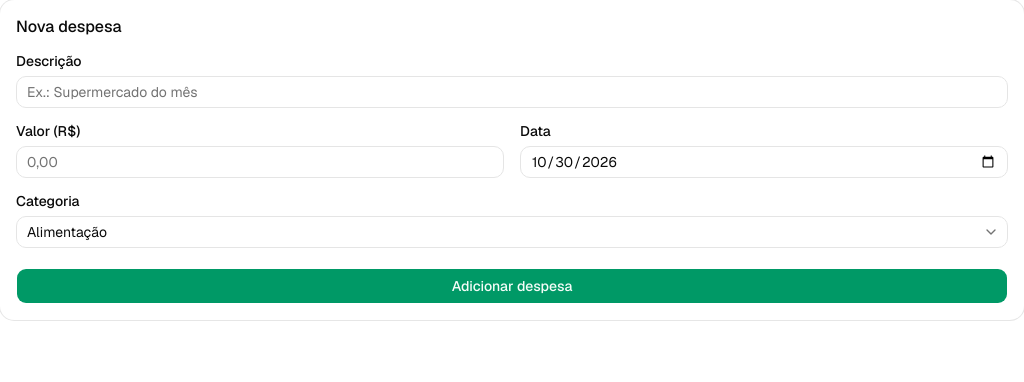
Test case: <ExpenseForm /> › não envia e mostra os erros quando o formulário está vazio
This screenshot has width=1024, height=382.
Click the button "Adicionar despesa": (512, 286) [16,268,1008,304]
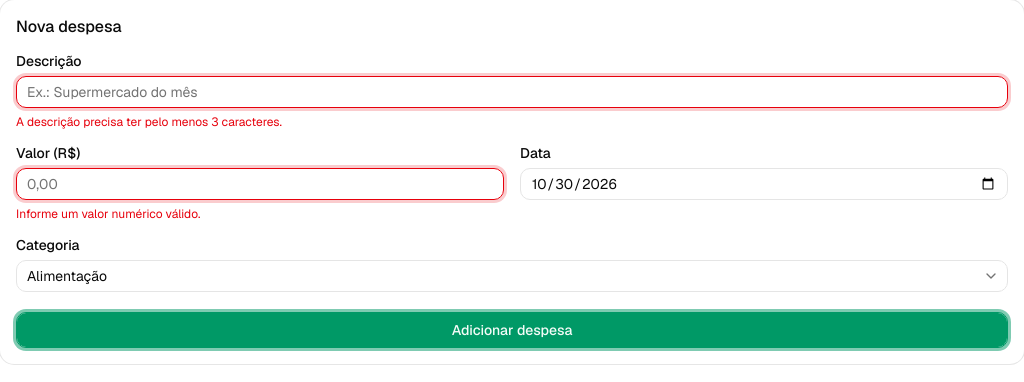
expect the number of messages is 2: met, box [16,114,282,130]; [16,206,200,222]
expect the text "A descrição precisa ter pelo menos 3 caracteres." is shown: met, box [16,114,282,130]
expect the text "Informe um valor numérico válido." is shown: met, box [16,206,200,222]
